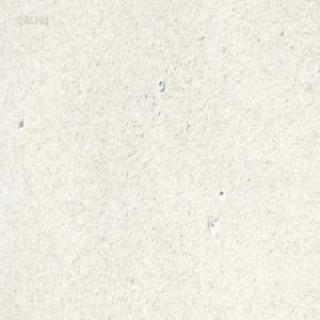Washertrack_idkeyframe: (156, 76, 164, 90)
